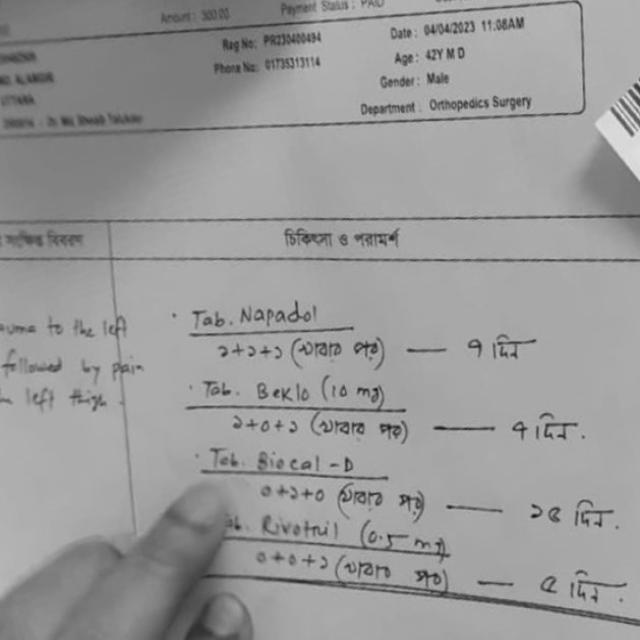medicine: (252, 444, 360, 480), (254, 506, 344, 547), (236, 295, 322, 329), (248, 376, 315, 412)
